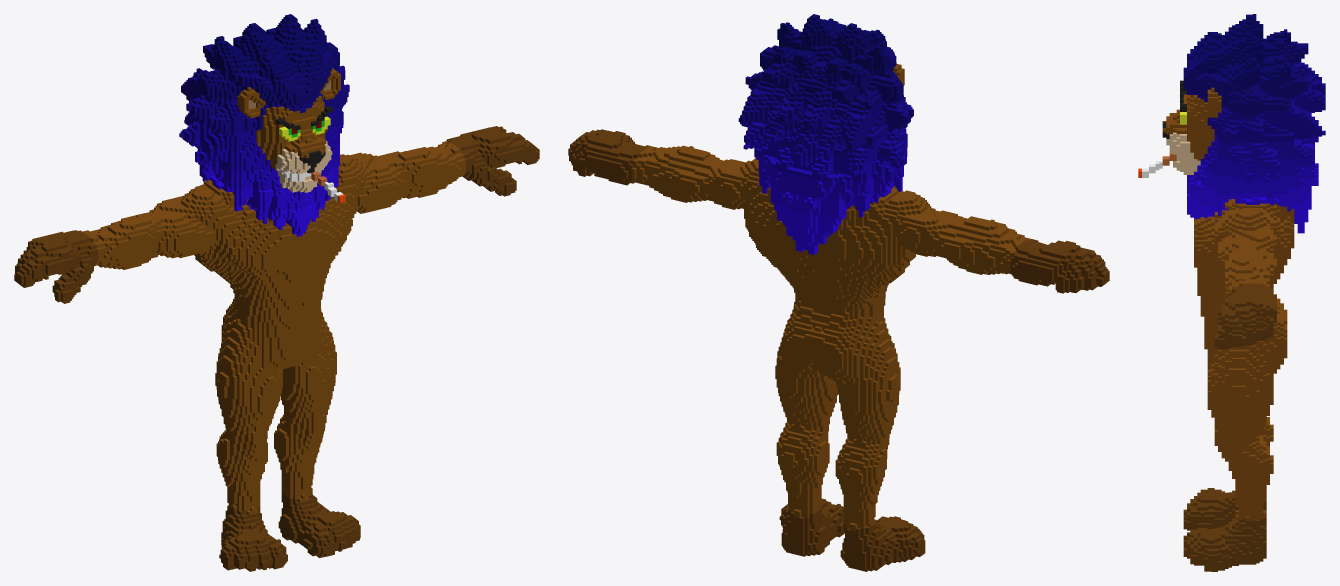
The model's file is 1105-0_RrzLYO.glb.
The picture shows the model from 3 angles, left to right: view 1: azimuth 30°, elevation 25°; view 2: azimuth 150°, elevation 25°; view 3: azimuth 270°, elevation 25°; orthographic projection. The views are drawn at different scales.
Visible parts, largest first — view 1: cigarette; view 2: cigarette; view 3: cigarette.
Boxes of the visible parts, left/top/right/bottom form: cigarette: left=14, top=14, right=539, bottom=571; cigarette: left=568, top=14, right=1109, bottom=571; cigarette: left=1138, top=14, right=1325, bottom=571.
Size of the model in its own units: 17.2 by 16.5 by 5.4.
4 materials, 4 textured.
